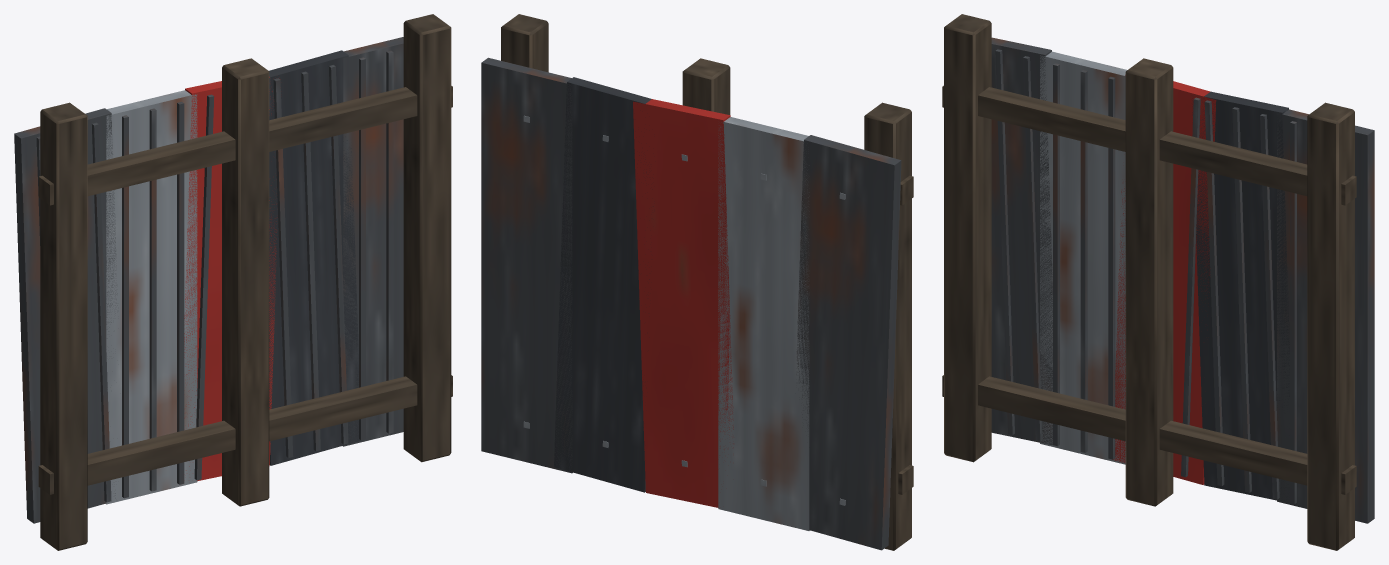
The model's file is SM_ScrapWall.fbx.
3 renders of one model, left to right at view 1: azimuth 30°, elevation 25°; view 2: azimuth 150°, elevation 25°; view 3: azimuth 330°, elevation 25°, orthographic.
Parts seen in each view (by area): view 1: SM_ScrapWall; view 2: SM_ScrapWall; view 3: SM_ScrapWall.
Boxes of the visible parts, x1,y1,x2,y2 form: SM_ScrapWall: (14,14,452,550); SM_ScrapWall: (481,14,913,550); SM_ScrapWall: (942,14,1374,550).
Size of the model in its own units: 10.46 by 10.4 by 1.36.
1 material, 1 textured.
